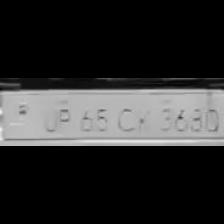3: (50, 100, 74, 130), (114, 103, 138, 133), (88, 104, 110, 132)
J: (38, 99, 54, 133)
